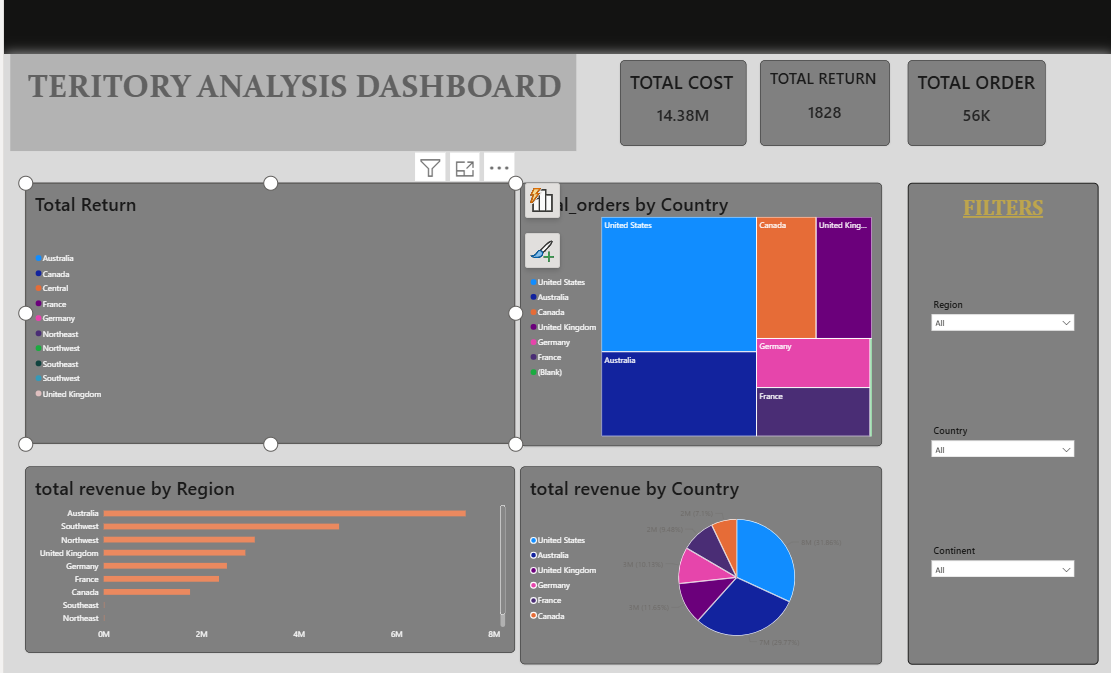

This screenshot's page, from the dashboard's own definition file:
{"tool":"powerbi","page":{"name":"Page 6","canvas":[1920,1080],"ordinal":5},"visuals":[{"type":"textbox","box":[1564,222,330,834],"z":0},{"type":"textbox","box":[10,0,980,168],"z":1000},{"type":"map","title":"Total Return","fields":{"Category":["Territories.Country"],"Series":["Territories.Region"],"Size":["Calendar (1).total return"]},"box":[34,222,850,454],"z":2000},{"type":"clusteredBarChart","fields":{"Category":["Territories.Region"],"Y":["Calendar (1).total revenue"]},"box":[36,714,848,322],"z":3000},{"type":"card","title":"TOTAL COST","fields":{"Values":["Calendar (1).total_cost"]},"box":[1068,10,218,148],"z":4000},{"type":"slicer","fields":{"Values":["Territories.Country"]},"box":[1602,640,256,110],"z":5000},{"type":"slicer","fields":{"Values":["Territories.Region"]},"box":[1602,422,256,154],"z":6000},{"type":"slicer","fields":{"Values":["Territories.Continent"]},"box":[1602,848,256,100],"z":7000},{"type":"card","title":"TOTAL RETURN","fields":{"Values":["Calendar (1).total return"]},"box":[1310,10,224,148],"z":8000},{"type":"card","title":"TOTAL ORDER","fields":{"Values":["Calendar (1).total_orders"]},"box":[1564,10,238,148],"z":9000},{"type":"textbox","box":[1564,222,330,140],"z":9001},{"type":"treemap","fields":{"Group":["Territories.Country","Territories.Continent"],"Values":["Calendar (1).total_orders"]},"box":[894,222,626,456],"z":9002},{"type":"pieChart","fields":{"Category":["Territories.Country"],"Y":["Calendar (1).total revenue"]},"box":[894,714,626,342],"z":9003}]}

Visuals, with their boxes in screenshot pixels (x1, y1, x2, y2):
textbox: locate(904, 179, 1092, 655)
textbox: locate(17, 52, 577, 148)
"Total Return" map: locate(31, 179, 516, 438)
clusteredBarChart - Territories.Region x Calendar (1).total revenue: locate(32, 460, 516, 643)
"TOTAL COST" card: locate(621, 58, 745, 142)
slicer - Territories.Country: locate(926, 417, 1072, 480)
slicer - Territories.Region: locate(926, 293, 1072, 381)
slicer - Territories.Continent: locate(926, 536, 1072, 593)
"TOTAL RETURN" card: locate(759, 58, 887, 142)
"TOTAL ORDER" card: locate(904, 58, 1040, 142)
textbox: locate(904, 179, 1092, 259)
treemap - Territories.Country x Territories.Continent: locate(522, 179, 879, 439)
pieChart - Territories.Country x Calendar (1).total revenue: locate(522, 460, 879, 655)
